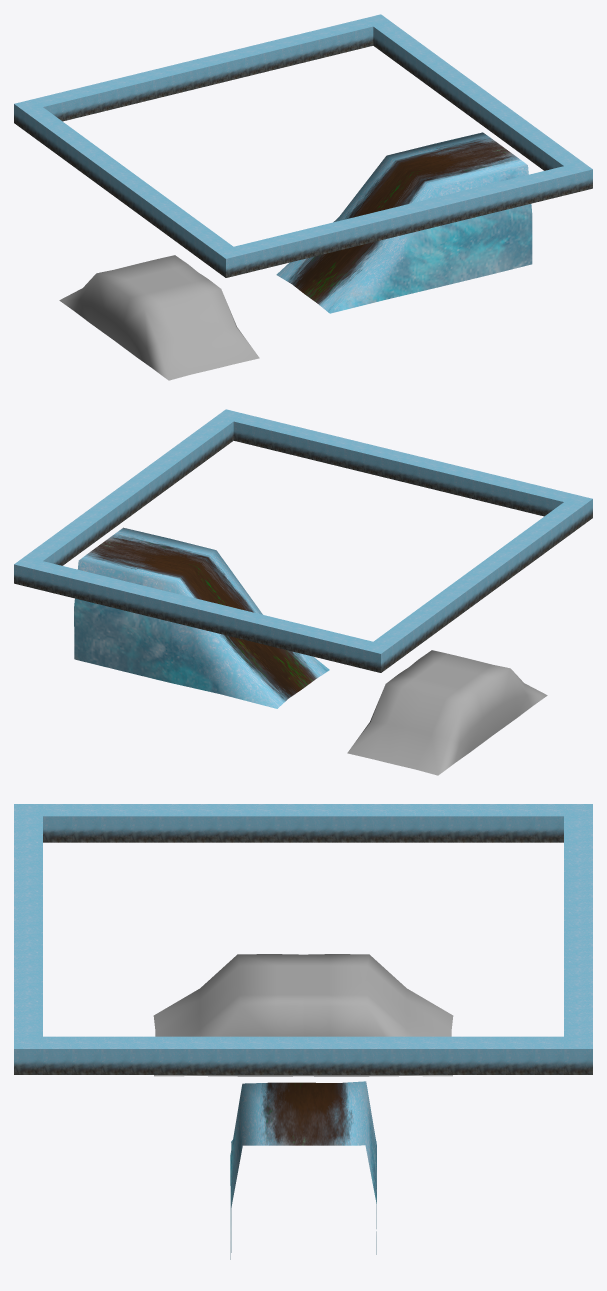
Rendered from Stage_Block_3_4_2F 1.fbx.
3 views of the same model, one above another, from view 1: azimuth 30°, elevation 25°; view 2: azimuth 150°, elevation 25°; view 3: azimuth 270°, elevation 25° (orthographic). The views are drawn at different scales.
Parts seen in each view (by area): view 1: polySurface106, polySurface178, Slope_model_1, Slope_model_2; view 2: polySurface106, polySurface178, Slope_model_2, Slope_model_1; view 3: polySurface106, Slope_model_1, Slope_model_2, polySurface178.
Part boxes in pixels (left/top/right/bottom): polySurface106: left=14, top=14, right=592, bottom=277; polySurface178: left=276, top=132, right=532, bottom=313; Slope_model_1: left=113, top=272, right=259, bottom=380; Slope_model_2: left=59, top=255, right=197, bottom=339; polySurface106: left=14, top=409, right=592, bottom=672; polySurface178: left=74, top=527, right=329, bottom=708; Slope_model_2: left=347, top=667, right=493, bottom=775; Slope_model_1: left=409, top=650, right=547, bottom=734; polySurface106: left=14, top=804, right=592, bottom=1074; Slope_model_1: left=153, top=954, right=303, bottom=1076; Slope_model_2: left=303, top=954, right=453, bottom=1076; polySurface178: left=230, top=1081, right=376, bottom=1259.
Bounding box in the file's own units: 4277 × 1643 × 4000.
3 materials, 2 textured.
